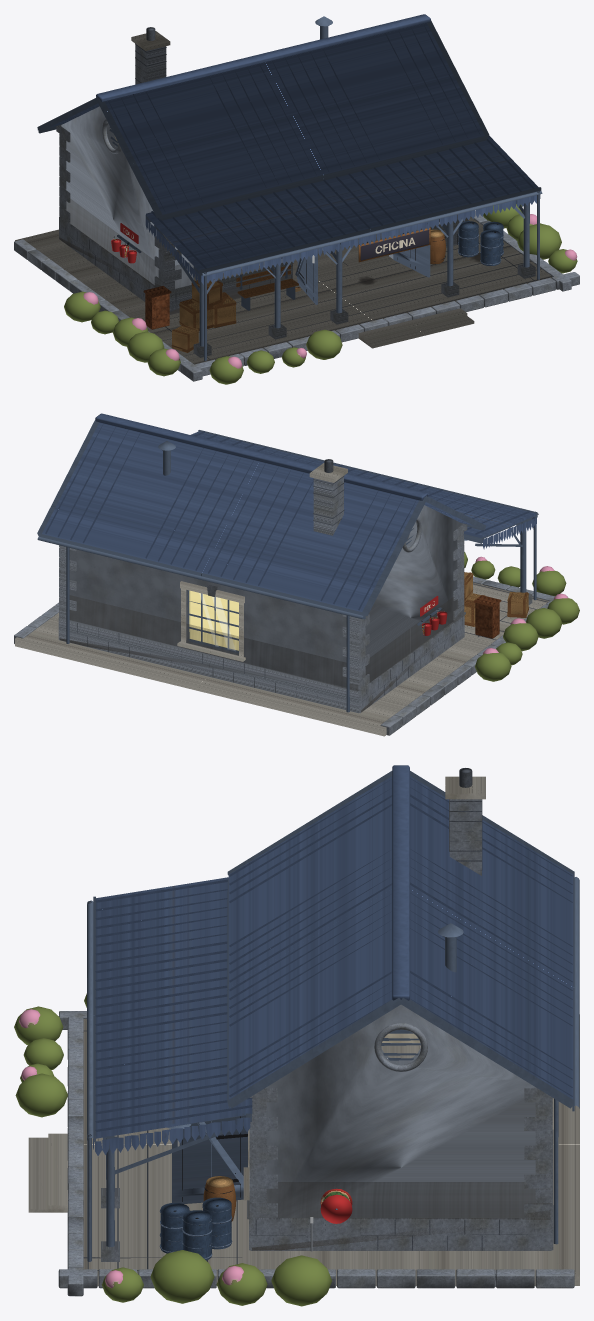
File: oficina_ra.glb
3 renders of one model, top to bottom at view 1: azimuth 30°, elevation 25°; view 2: azimuth 150°, elevation 25°; view 3: azimuth 270°, elevation 25°, orthographic. The views are drawn at different scales.
Visible parts, largest first — view 1: Telhado_telhado_metal_azul, Plataforma_concreto_plataforma, Plataforma_pedra_base, Pedras_Embasamento_Cunhais_metal_estrutura, Telhado_Detalhes_telhado_cumeeira, Porta_Esq_mesh_ferragens, Paredes_pedra_fachada, Desgaste_Decalques_sujeira_base, Placa_Luminarias_madeira, Plataforma_junta_pedra, Objetos_Patio_caixote_madeira, Objetos_Patio_tambor_oleo (+1 smaller); view 2: Telhado_telhado_metal_azul, Paredes_pedra_fachada, Plataforma_pedra_base, Plataforma_concreto_plataforma, Desgaste_Decalques_sujeira_base, Pedras_Embasamento_Cunhais_metal_estrutura, Telhado_Detalhes_telhado_cumeeira, Porta_Esq_mesh_ferragens, Vidros_Iluminados_vidro_iluminado, Interior_Oficina_interior_parede, Plataforma_junta_pedra, Objetos_Patio_caixa_eletrica (+3 smaller); view 3: Telhado_telhado_metal_azul, Paredes_pedra_fachada, Plataforma_pedra_base, Telhado_Detalhes_telhado_cumeeira, Plataforma_concreto_plataforma, Pedras_Embasamento_Cunhais_metal_estrutura, Porta_Esq_mesh_ferragens, Desgaste_Decalques_sujeira_base, Objetos_Patio_tambor_oleo, Plataforma_junta_pedra.
Boxes of the visible parts, left/top/right/bottom form: Telhado_telhado_metal_azul: left=51, top=23, right=540, bottom=284; Plataforma_concreto_plataforma: left=15, top=31, right=552, bottom=364; Plataforma_pedra_base: left=14, top=45, right=579, bottom=381; Pedras_Embasamento_Cunhais_metal_estrutura: left=37, top=16, right=542, bottom=360; Telhado_Detalhes_telhado_cumeeira: left=96, top=14, right=534, bottom=268; Porta_Esq_mesh_ferragens: left=64, top=204, right=577, bottom=384; Paredes_pedra_fachada: left=61, top=106, right=439, bottom=288; Desgaste_Decalques_sujeira_base: left=59, top=199, right=292, bottom=314; Placa_Luminarias_madeira: left=171, top=227, right=445, bottom=352; Plataforma_junta_pedra: left=59, top=27, right=552, bottom=363; Objetos_Patio_caixote_madeira: left=172, top=280, right=235, bottom=352; Objetos_Patio_tambor_oleo: left=458, top=221, right=503, bottom=265; Telhado_telhado_metal_azul: left=42, top=422, right=536, bottom=611; Paredes_pedra_fachada: left=61, top=505, right=462, bottom=690; Plataforma_pedra_base: left=14, top=477, right=567, bottom=735; Plataforma_concreto_plataforma: left=15, top=463, right=548, bottom=736; Desgaste_Decalques_sujeira_base: left=60, top=595, right=463, bottom=712; Pedras_Embasamento_Cunhais_metal_estrutura: left=37, top=420, right=538, bottom=712; Telhado_Detalhes_telhado_cumeeira: left=45, top=413, right=530, bottom=610; Porta_Esq_mesh_ferragens: left=420, top=552, right=579, bottom=681; Vidros_Iluminados_vidro_iluminado: left=189, top=590, right=238, bottom=650; Interior_Oficina_interior_parede: left=191, top=591, right=238, bottom=649; Plataforma_junta_pedra: left=77, top=459, right=547, bottom=704; Objetos_Patio_caixa_eletrica: left=473, top=595, right=501, bottom=638; Telhado_telhado_metal_azul: left=93, top=776, right=573, bottom=1155; Paredes_pedra_fachada: left=252, top=1004, right=549, bottom=1217; Plataforma_pedra_base: left=58, top=799, right=574, bottom=1296; Telhado_Detalhes_telhado_cumeeira: left=95, top=765, right=572, bottom=1131; Plataforma_concreto_plataforma: left=28, top=776, right=579, bottom=1285; Pedras_Embasamento_Cunhais_metal_estrutura: left=87, top=771, right=579, bottom=1261; Porta_Esq_mesh_ferragens: left=14, top=993, right=352, bottom=1306; Desgaste_Decalques_sujeira_base: left=249, top=1182, right=549, bottom=1250; Objetos_Patio_tambor_oleo: left=160, top=1197, right=231, bottom=1260; Plataforma_junta_pedra: left=83, top=768, right=534, bottom=1270.
Size of the model in its own units: 14.86 by 7.26 by 11.39.
21 materials, 21 textured.
